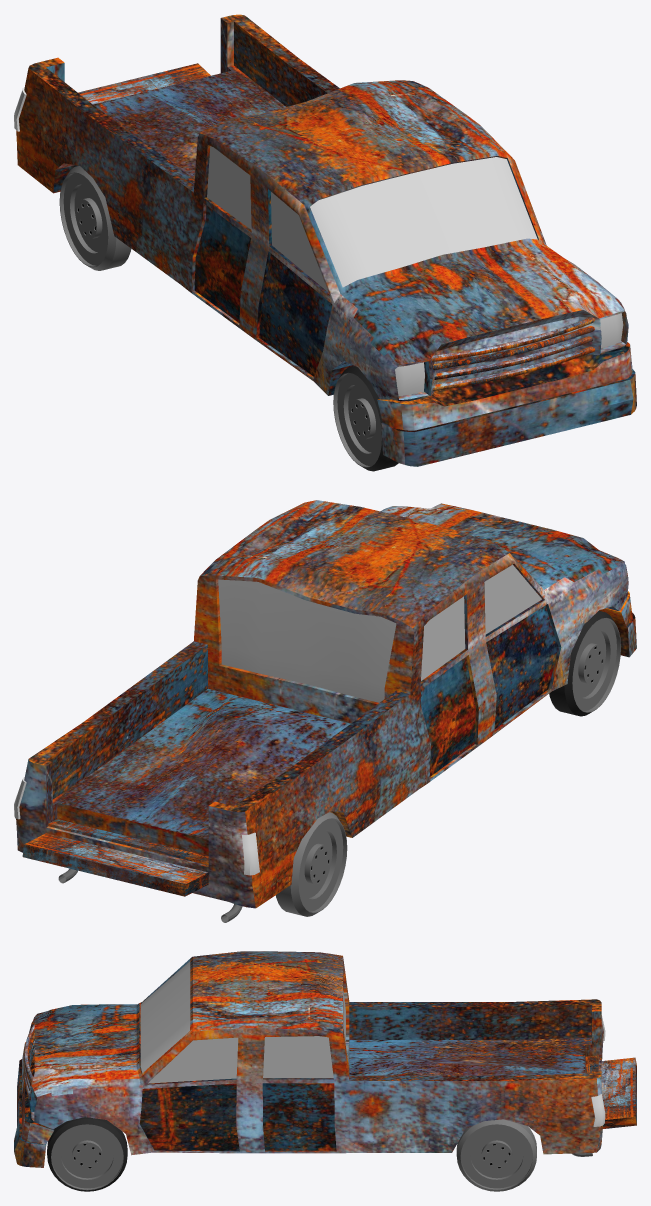
The model's file is TruckfShapeKeys.glb.
3 renders of one model, top to bottom at view 1: azimuth 30°, elevation 25°; view 2: azimuth 150°, elevation 25°; view 3: azimuth 270°, elevation 25°, orthographic. The views are drawn at different scales.
Parts seen in each view (by area): view 1: Car; view 2: Car; view 3: Car.
Boxes of the visible parts, x1,y1,x2,y2 form: Car: [14, 14, 636, 471]; Car: [14, 500, 636, 922]; Car: [14, 951, 636, 1191].
Bounding box in the file's own units: 3.58 × 3.13 × 10.47.
8 materials, 2 textured.
